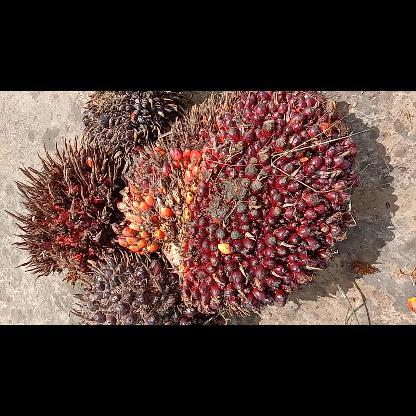Kurang masak: (72, 250, 228, 324)
TBS abnormal: (82, 91, 190, 167)
TBS masak: (110, 91, 358, 311)
Terlalu masak: (5, 136, 121, 282)
